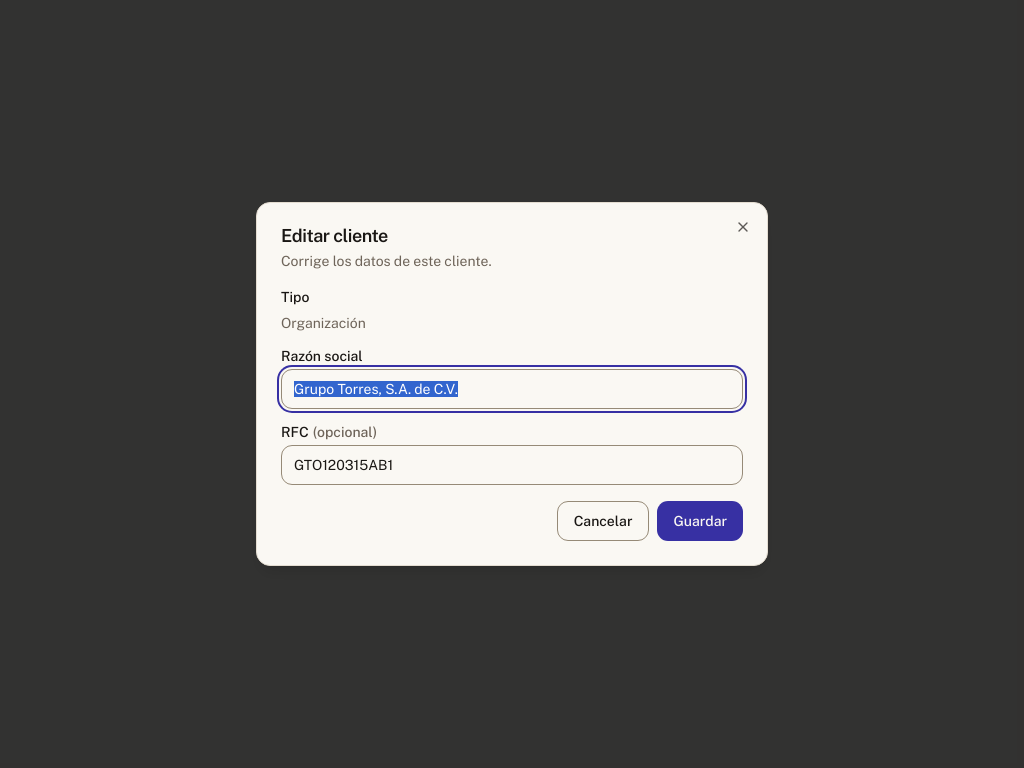
Test: a server refusal lands on the form, with the typing intact › refreshes the record when the client turned out to be withdrawn
Expected: the dialog is shown, top-left (256, 202), bottom-right (768, 566)
Replace the text in the field labelled "Razón social" with "Grupo Torres Actualizado" at (512, 389), box top-left (281, 369), bottom-right (743, 409)
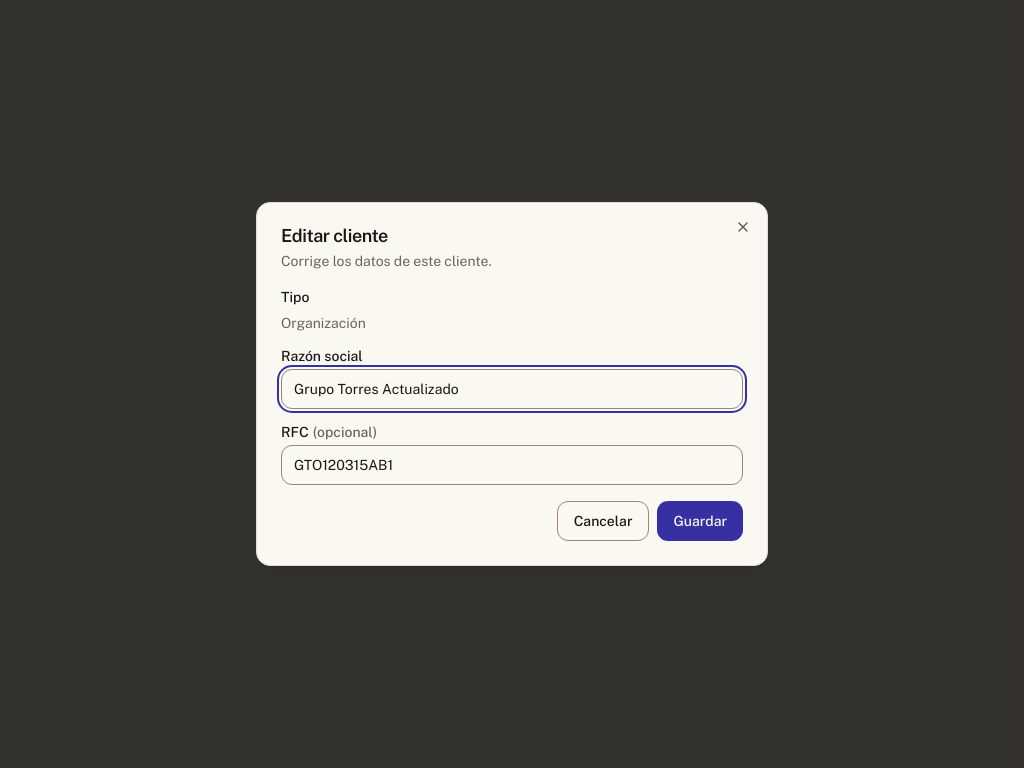
Click the button "Guardar".
click(700, 521)  # box top-left (658, 501), bottom-right (743, 541)
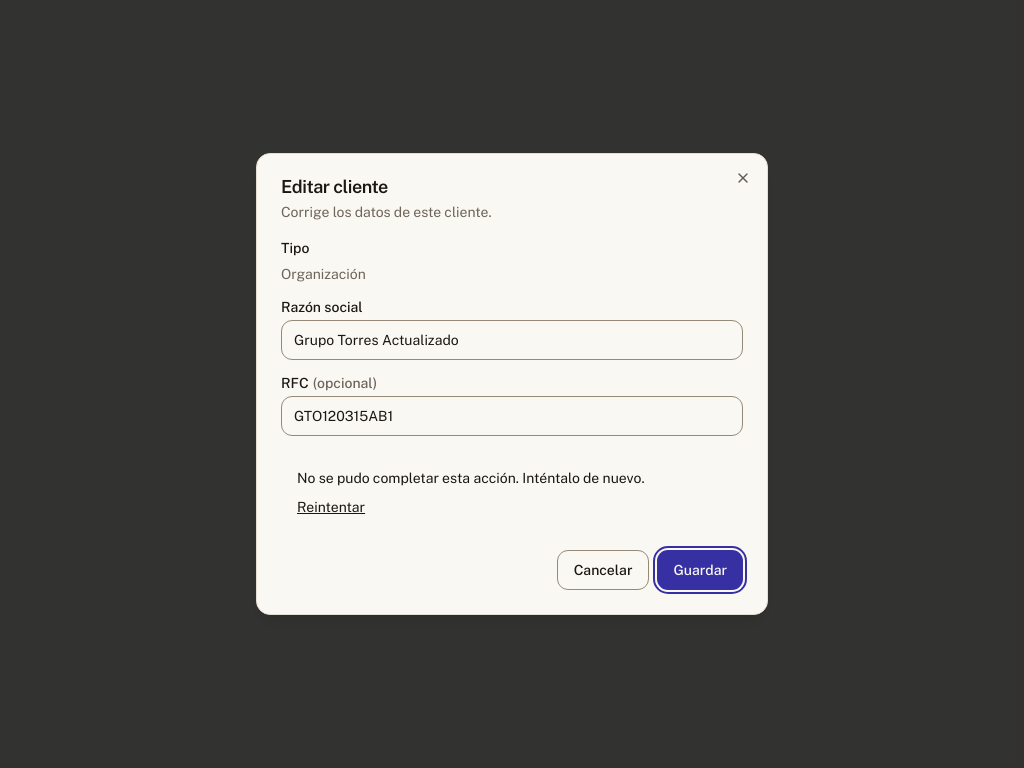
Now the message "No se pudo completar esta acción. Inténtalo de nuevo. Reintentar" is shown, box top-left (297, 470), bottom-right (645, 518)
